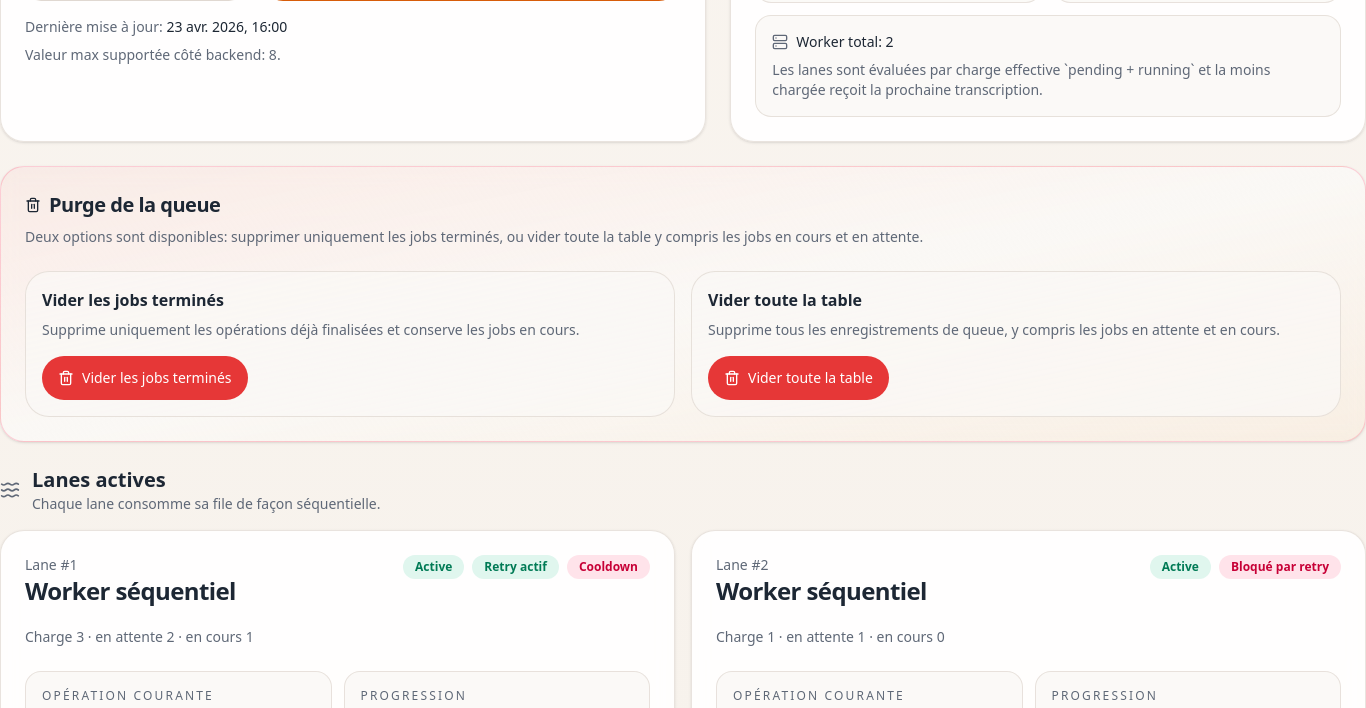
Test: DemeterQueuePage › exposes both purge scopes through confirmation panels
The width and height of the screenshot is (1366, 708).
(page scrolled)
expect the heading "Purge de la queue" is shown: met, box [25,190,220,218]
Click the button "Vider les jobs terminés" at (145, 378), box [42,356,248,400]
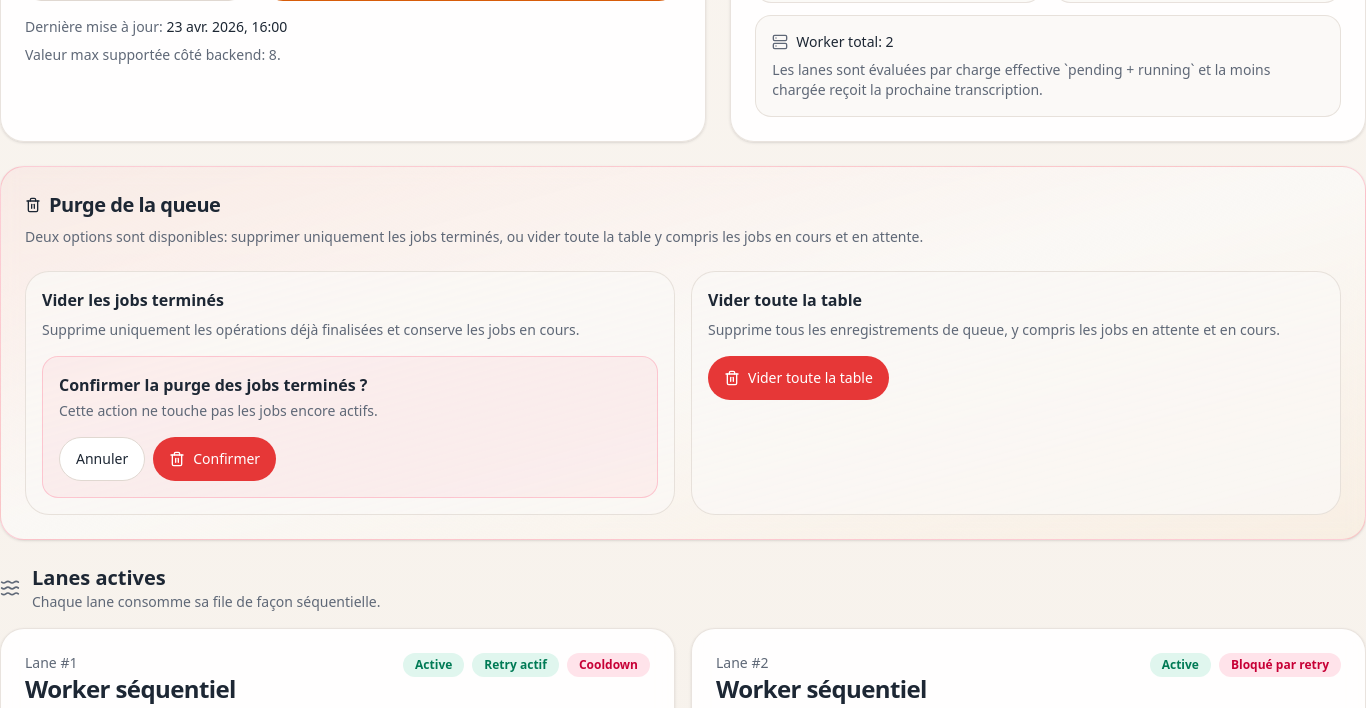
expect the text "Confirmer la purge des jobs terminés ?" is shown: met, box [59,374,367,396]
Click the button "Confirmer" at (215, 458), box [153,436,276,480]
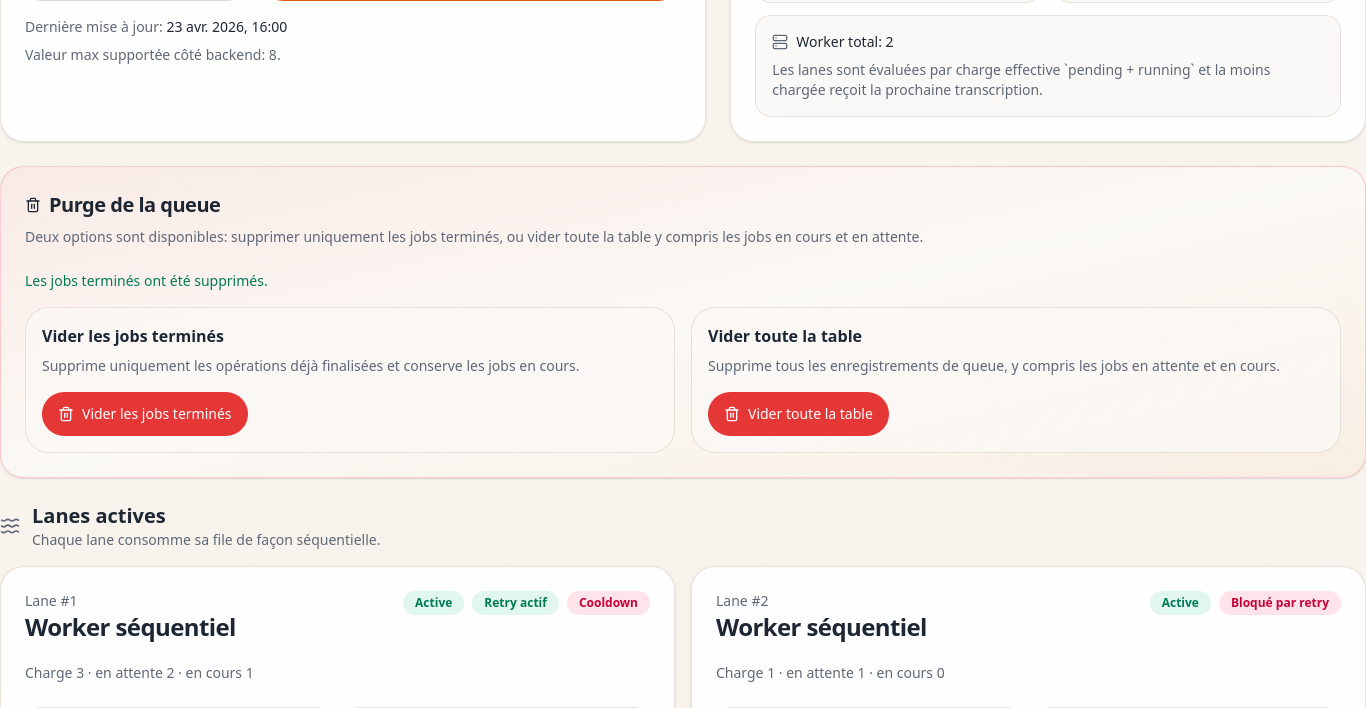
expect the text "Les jobs terminés ont été supprimés." is shown: met, box [25,270,268,290]
Click the button "Vider toute la table" at (798, 414), box [708,392,889,436]
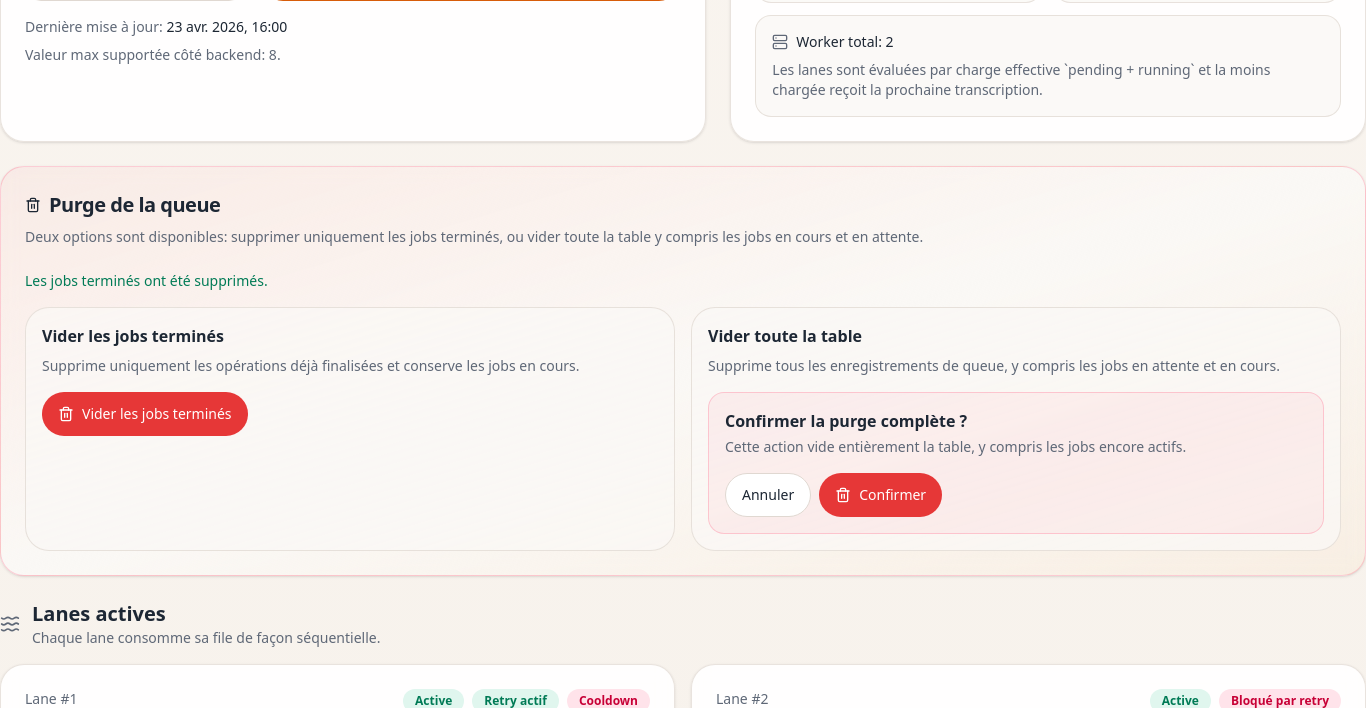
expect the text "Confirmer la purge complète ?" is shown: met, box [725,410,967,432]
Click the button "Confirmer" at (881, 494), box [819,472,942,516]
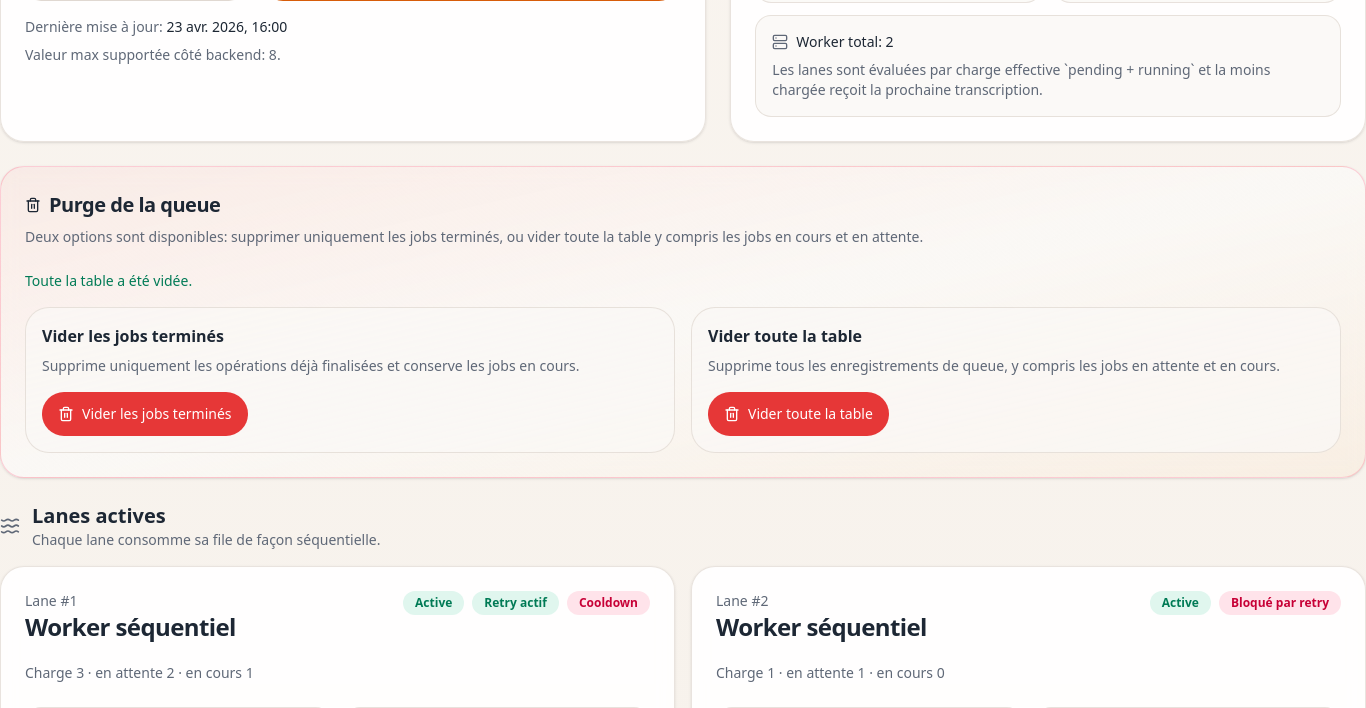
expect the text "Toute la table a été vidée." is shown: met, box [25,270,192,290]
